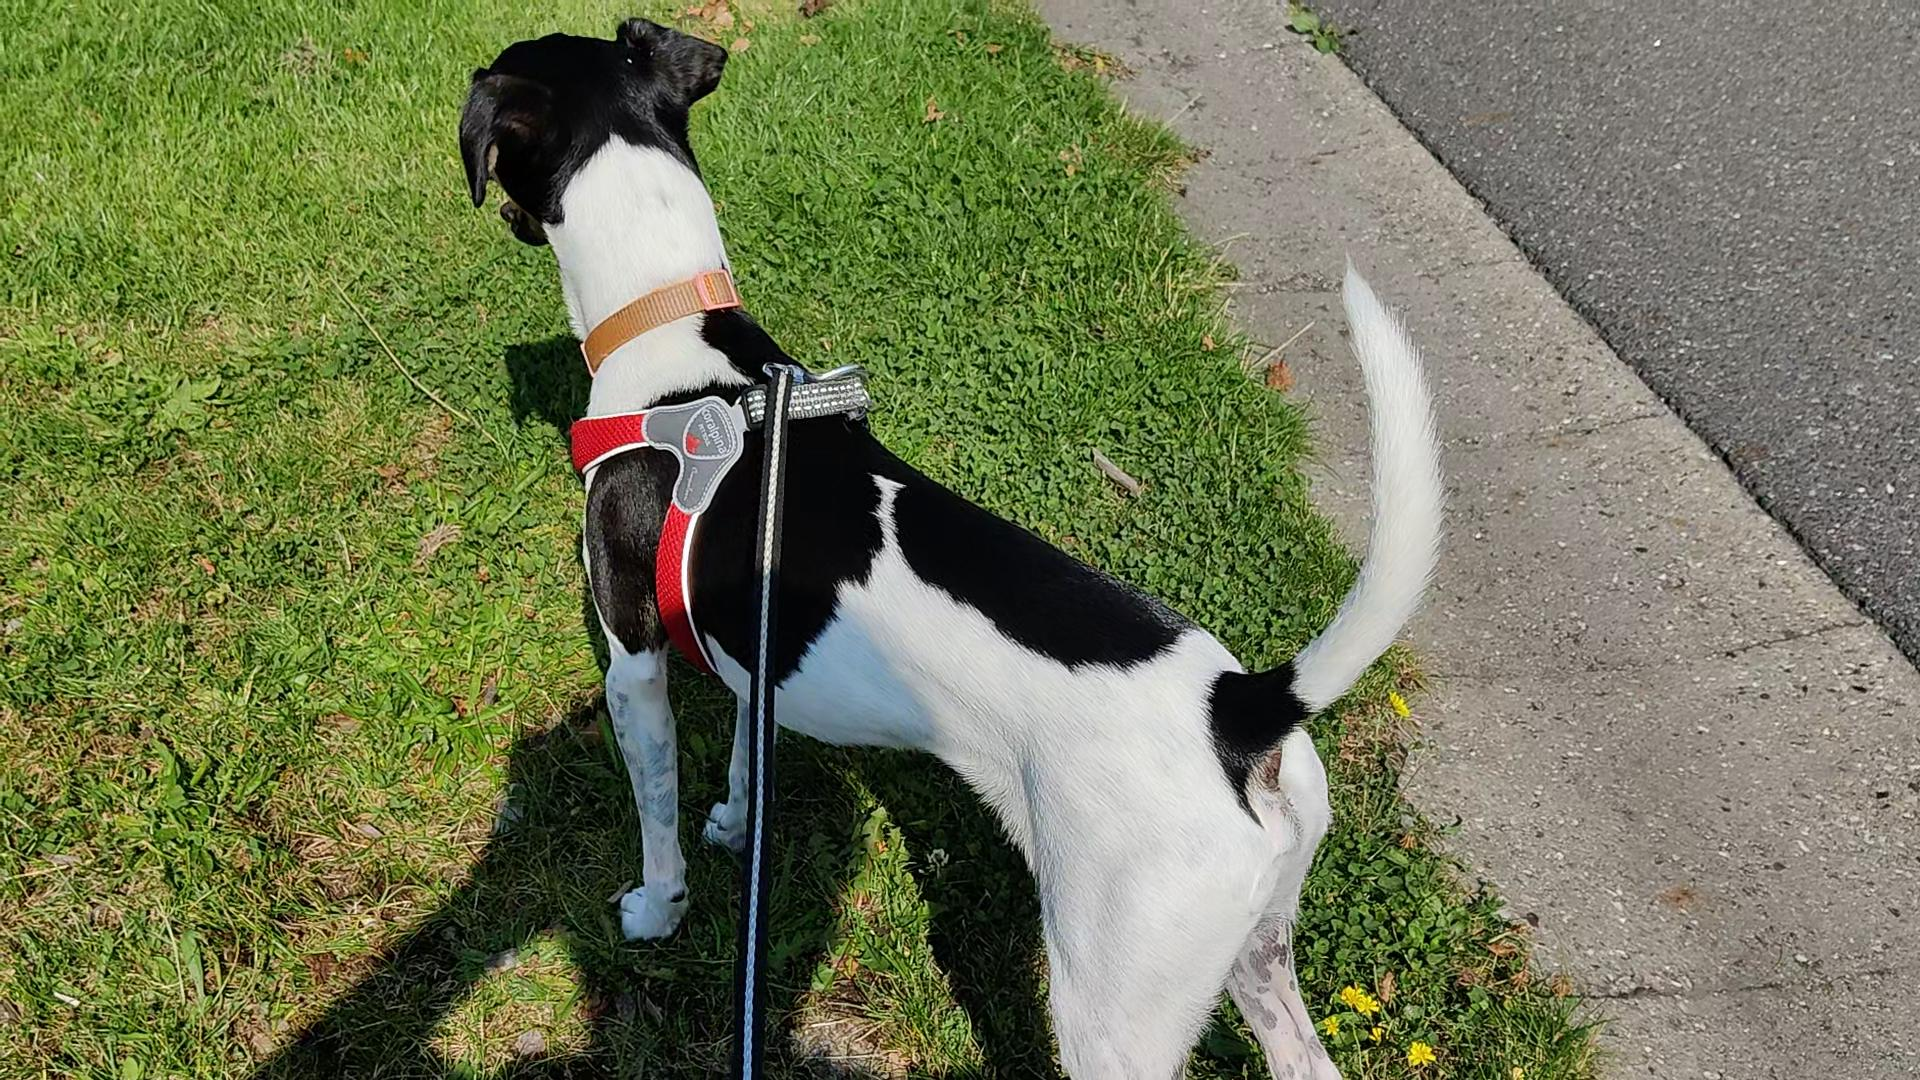Dog: (454, 13, 1449, 1079)
